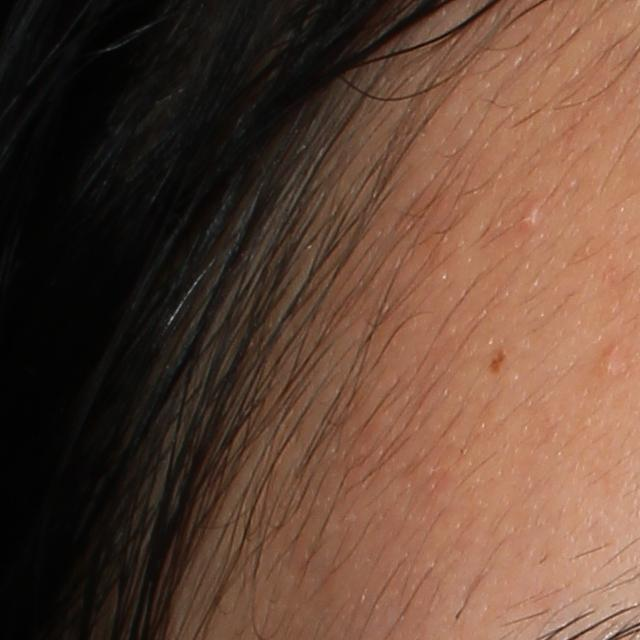nevus: (486, 348, 511, 376)
